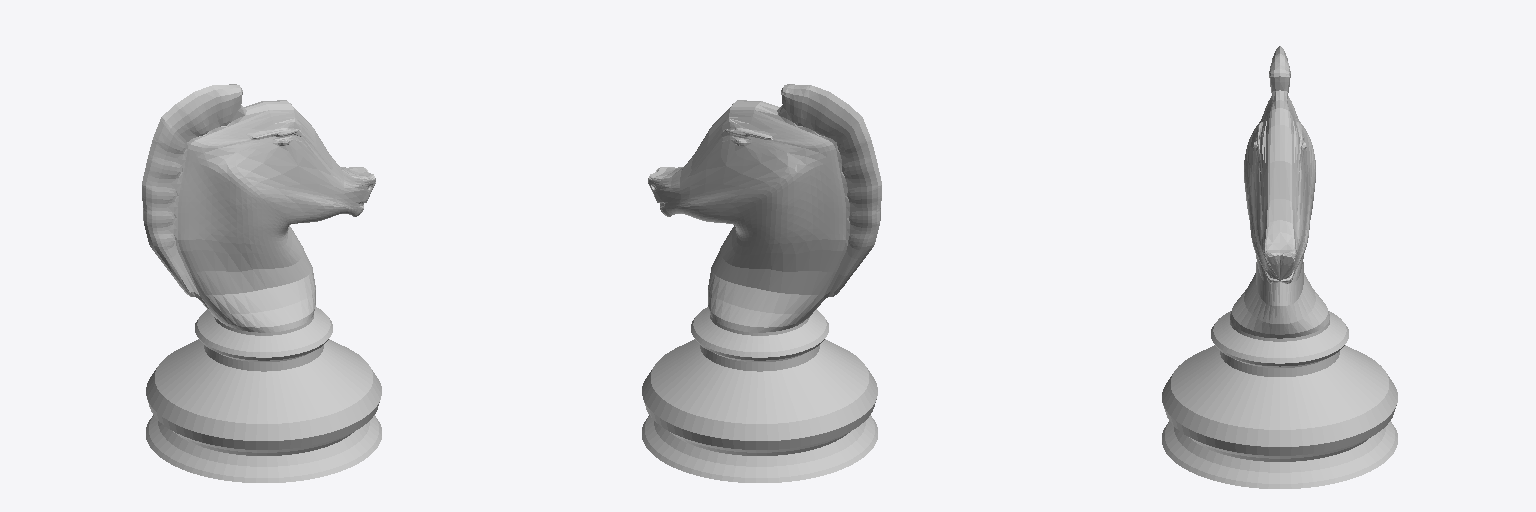
Rendered from black-knight.obj.
3 renders of one model, left to right at view 1: azimuth 30°, elevation 25°; view 2: azimuth 150°, elevation 25°; view 3: azimuth 270°, elevation 25°, orthographic.
Visible parts, largest first — view 1: Knight_Circle.028; view 2: Knight_Circle.028; view 3: Knight_Circle.028.
Part boxes in pixels (bbox=[...]): Knight_Circle.028: bbox=[142, 84, 381, 482]; Knight_Circle.028: bbox=[642, 84, 881, 482]; Knight_Circle.028: bbox=[1162, 46, 1397, 488].
Bounding box in the file's own units: 1.5 × 2.27 × 1.35.